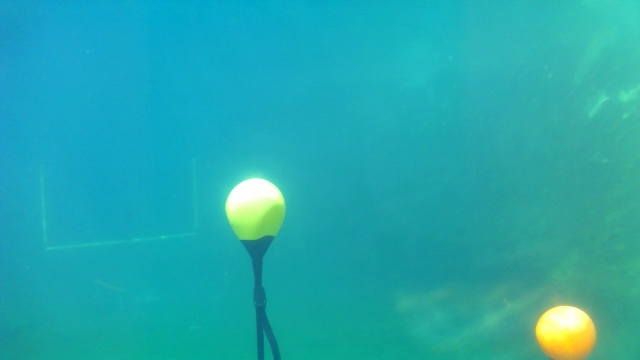channel: (38, 156, 197, 248)
